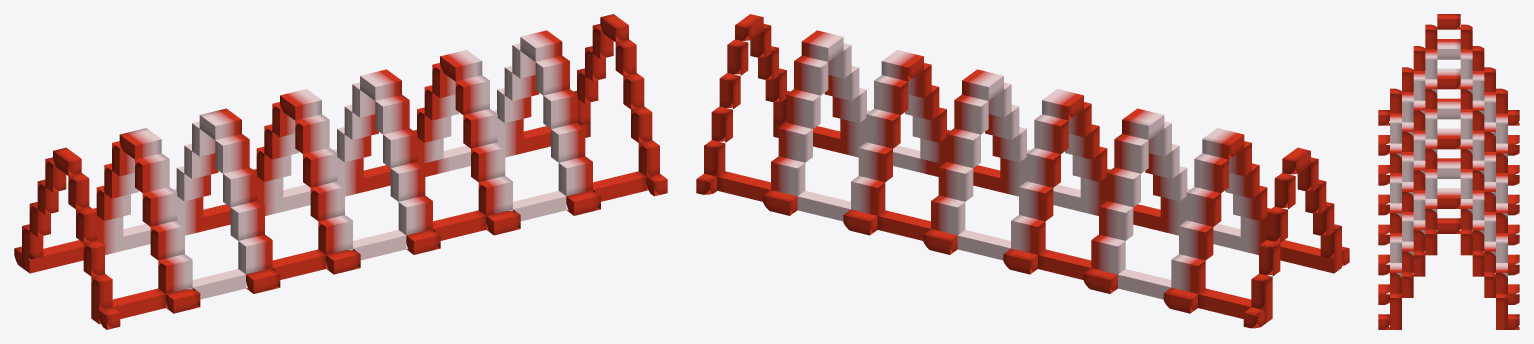
The model's file is Soporte.obj.
3 views of the same model, side by side, from view 1: azimuth 30°, elevation 25°; view 2: azimuth 150°, elevation 25°; view 3: azimuth 270°, elevation 25° (orthographic). The views are drawn at different scales.
Visible parts, largest first — view 1: Content; view 2: Content; view 3: Content.
Part boxes in pixels (bbox=[...]): Content: bbox=[14, 14, 667, 329]; Content: bbox=[696, 14, 1349, 328]; Content: bbox=[1378, 14, 1519, 329].
Size of the model in its own units: 2.52 by 0.6 by 0.72.
